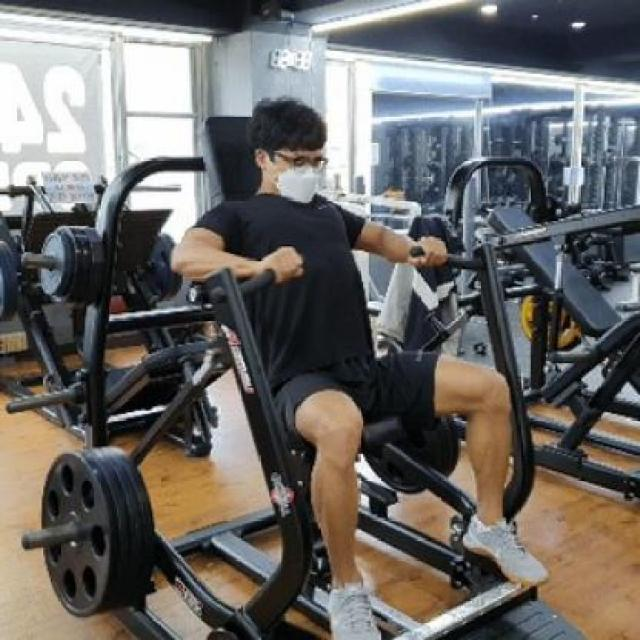Chest Press machine: (29, 101, 573, 640)
